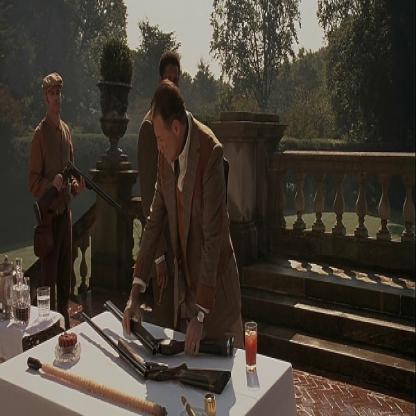Guns: (79, 295, 235, 394), (31, 157, 124, 231)
